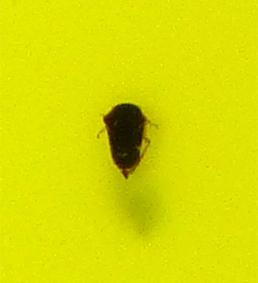Hemiptera: (100, 100, 158, 183)
